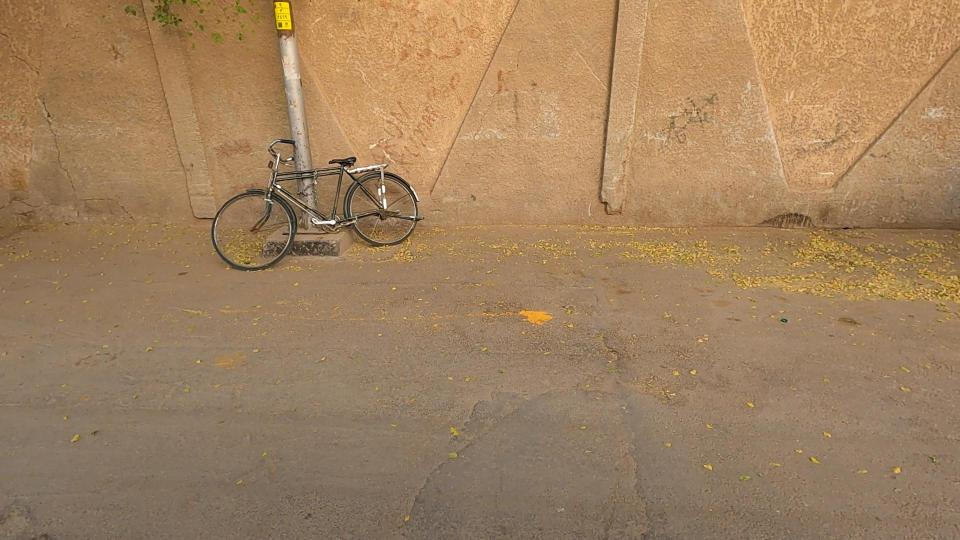GRAFFITI: (303, 18, 531, 258), (608, 34, 762, 213)
